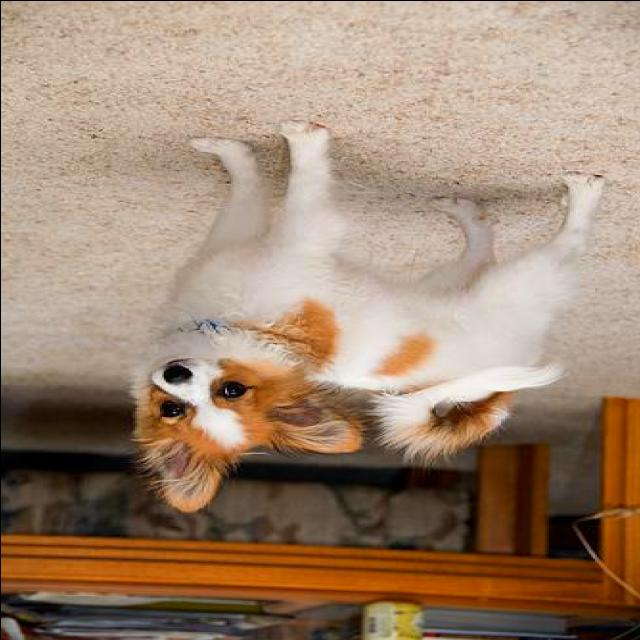papillon: (128, 119, 606, 516)
